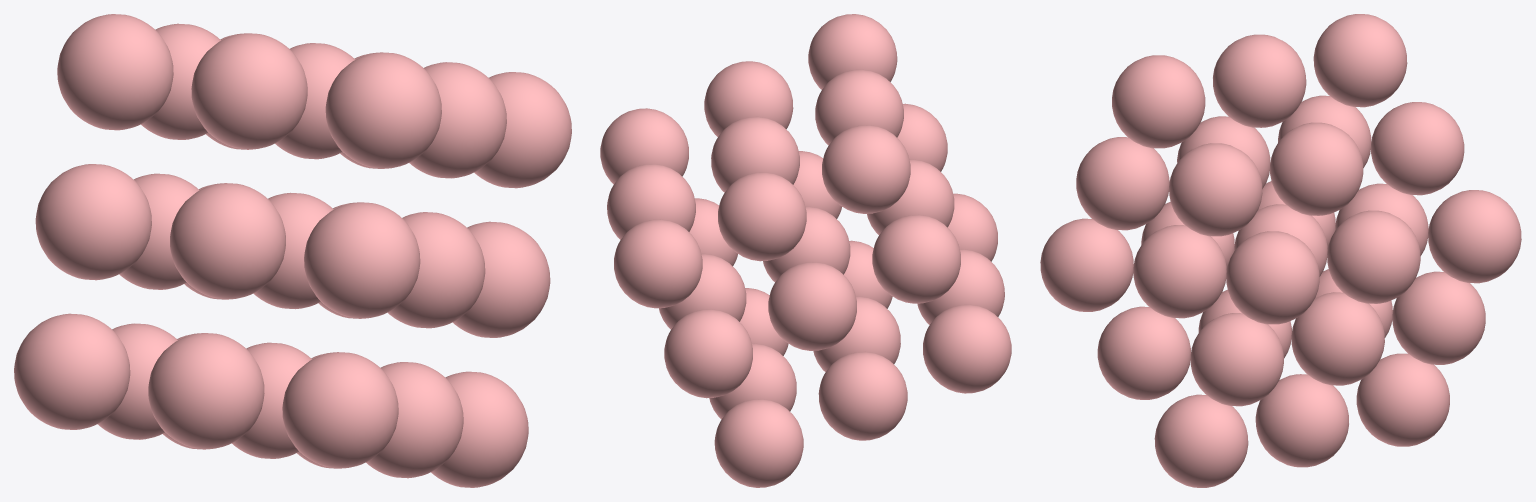
Rendered from Array_cube.glb.
The picture shows the model from 3 angles, left to right: view 1: azimuth 30°, elevation 25°; view 2: azimuth 150°, elevation 25°; view 3: azimuth 270°, elevation 25°; orthographic projection. The views are drawn at different scales.
Visible parts, largest first — view 1: Array_cube.001; view 2: Array_cube.001; view 3: Array_cube.001.
Boxes of the visible parts, box(x1,y1,x2,y2) form: Array_cube.001: box(14, 14, 571, 487); Array_cube.001: box(600, 14, 1011, 487); Array_cube.001: box(1040, 14, 1521, 487).
Size of the model in its own units: 3.09 by 2.72 by 3.01.
